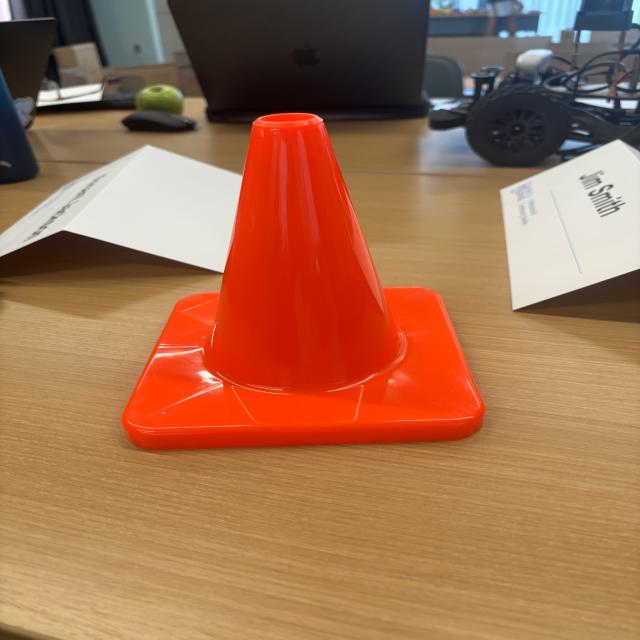Traffic Cone: (114, 99, 492, 455)
